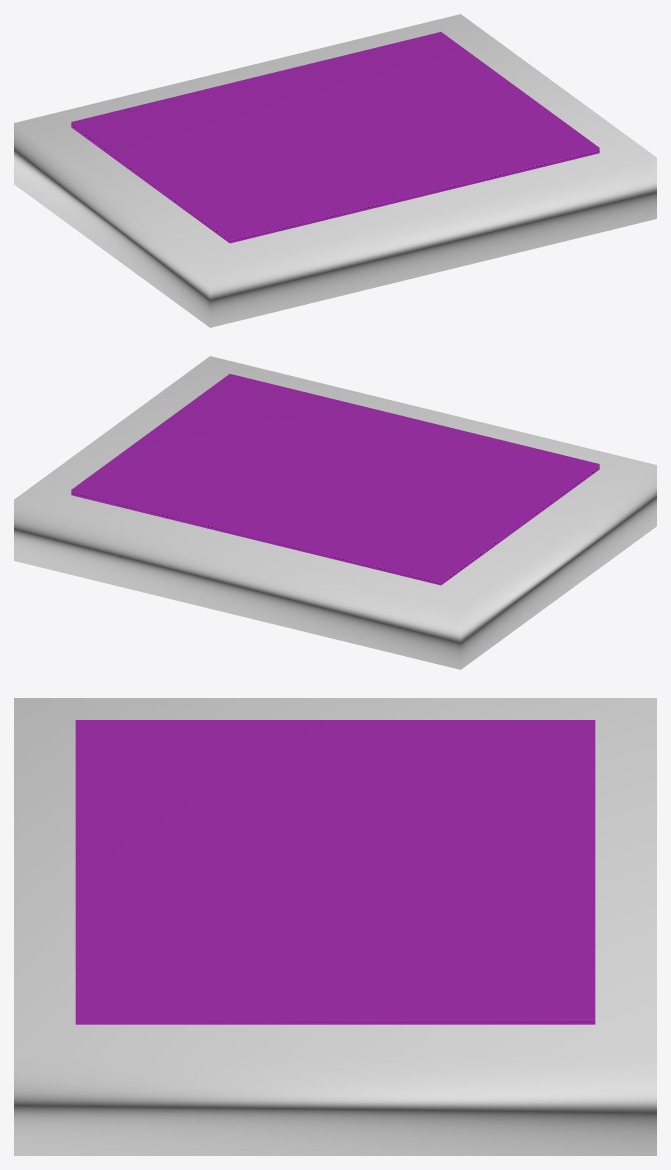
Rendered from platraformatipo4.fbx.
3 views of the same model, one above another, from view 1: azimuth 30°, elevation 25°; view 2: azimuth 150°, elevation 25°; view 3: azimuth 270°, elevation 25° (orthographic). The views are drawn at different scales.
Visible parts, largest first — view 1: pasted__pasted__polySurface28; view 2: pasted__pasted__polySurface28; view 3: pasted__pasted__polySurface28.
Part boxes in pixels (box(x1,y1,x2,y2)): pasted__pasted__polySurface28: box(14, 14, 656, 327); pasted__pasted__polySurface28: box(14, 356, 656, 669); pasted__pasted__polySurface28: box(14, 698, 656, 1155).
Size of the model in its own units: 250 by 35.69 by 190.
